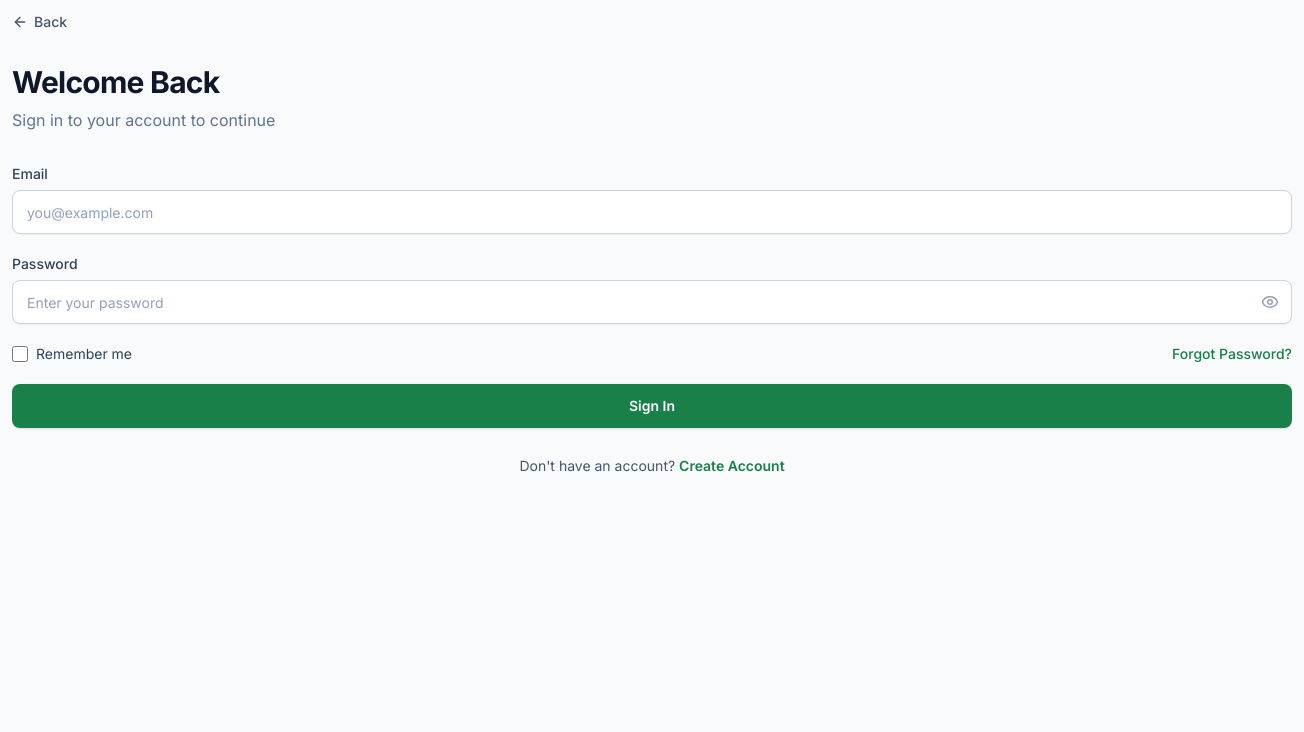
Scenario: LoginPage › explains an unconfirmed email and can send a new confirmation link
The width and height of the screenshot is (1304, 732).
Step 1. Type "new@example.com" into the field labelled "Email" → [652, 212], box [12, 190, 1292, 234]
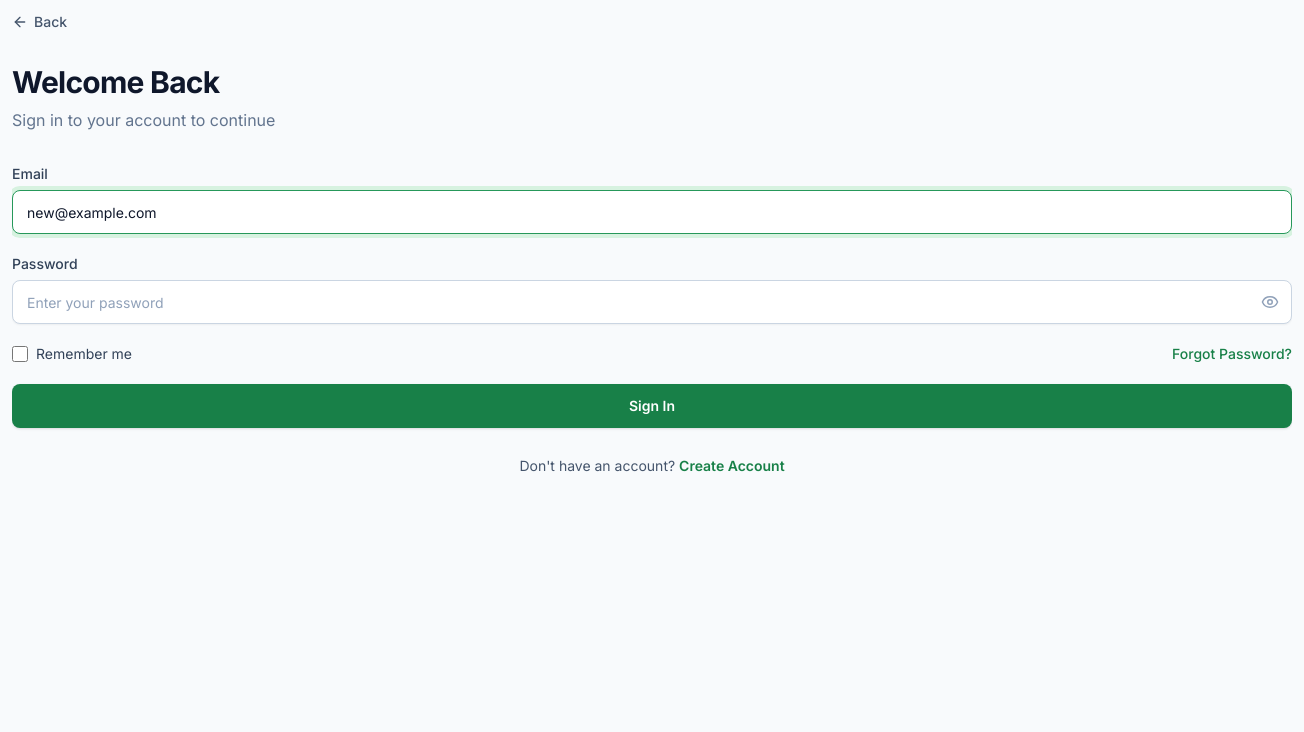
Step 2. Type "secret123" into the password field labelled "Password" → [652, 302], box [12, 280, 1292, 324]
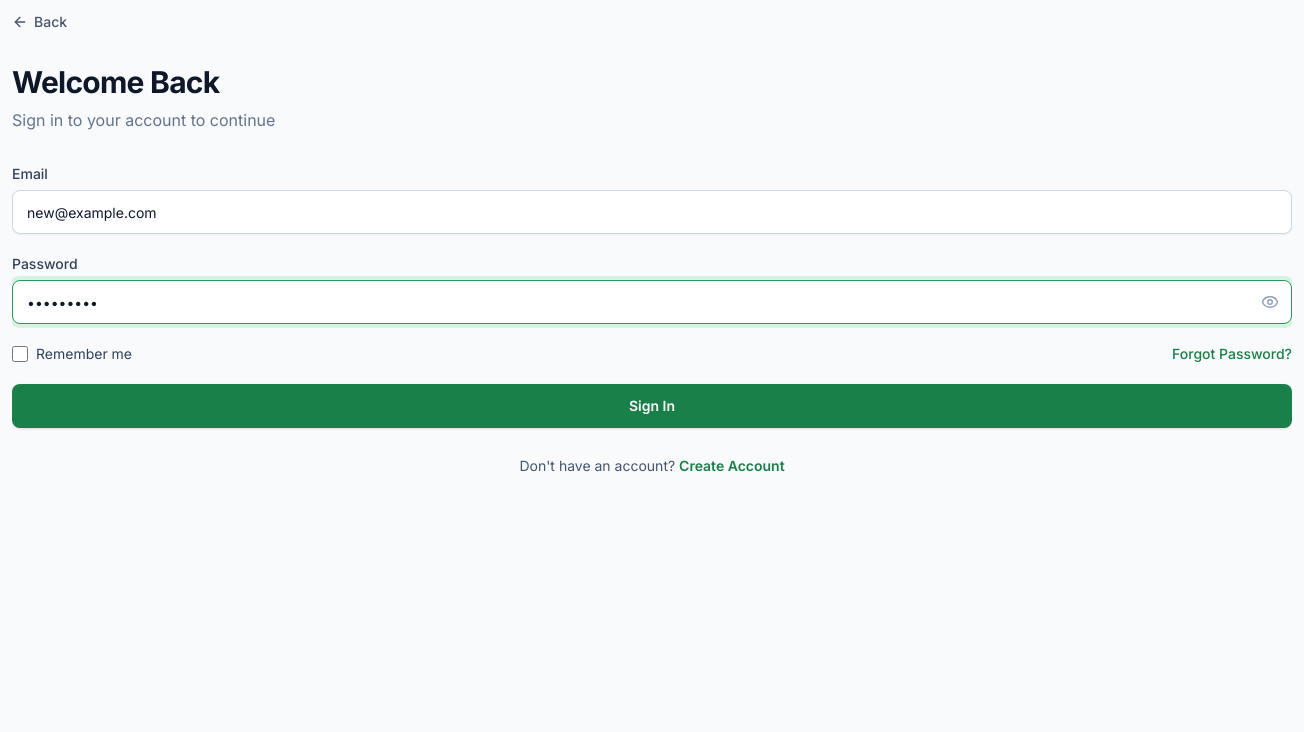
Step 3. Click the button "Sign In" → [652, 406], box [12, 384, 1292, 428]
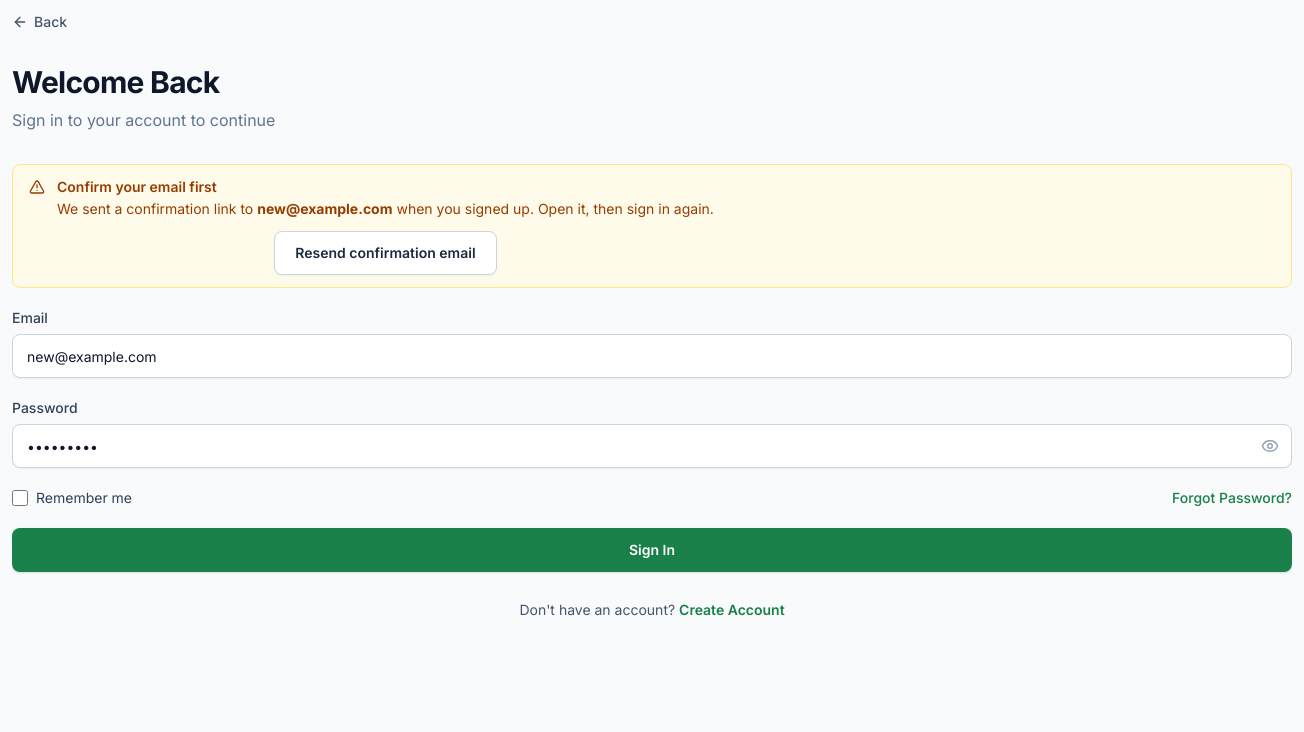
Now the text "Confirm your email first" is shown, box [57, 178, 217, 195]
Step 4. Click the button "Resend confirmation email" → [385, 253], box [274, 231, 497, 275]
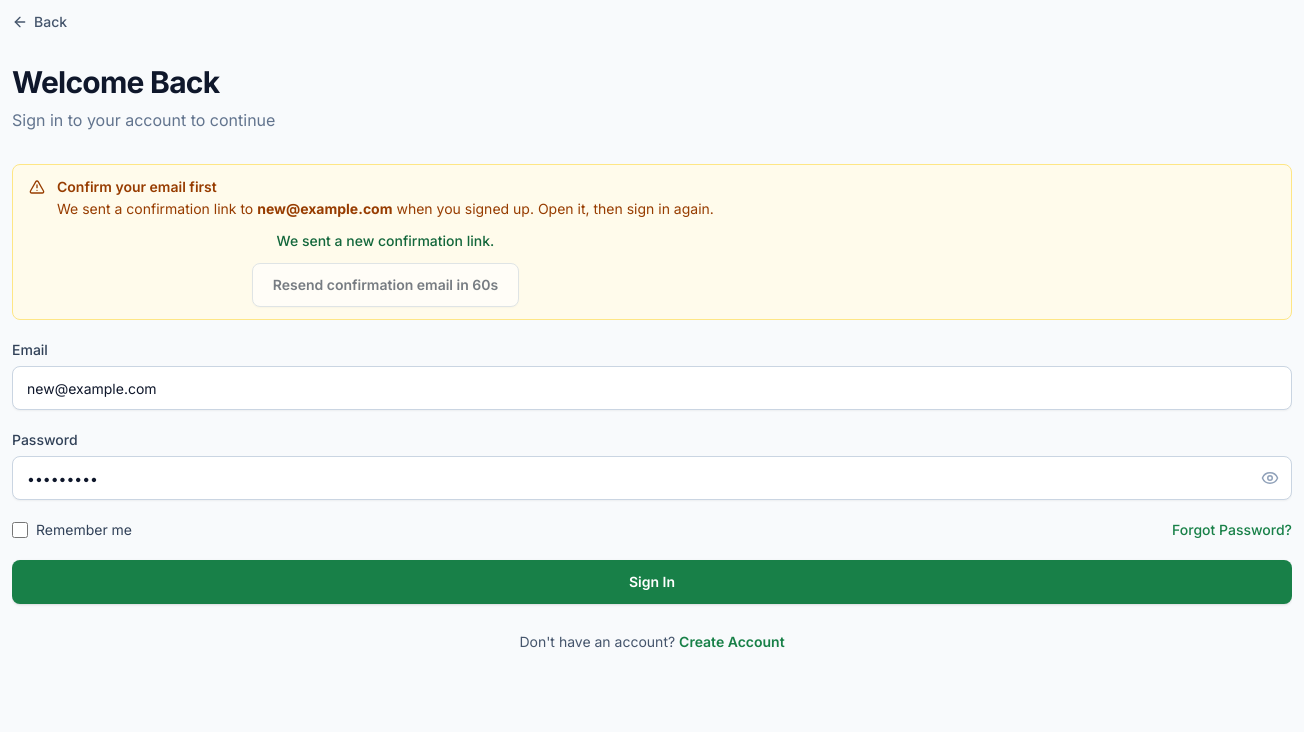
Now the text "We sent a new confirmation link." is shown, box [277, 231, 494, 251]
Now the button "Resend confirmation email in 60s" is disabled, box [252, 263, 519, 307]
